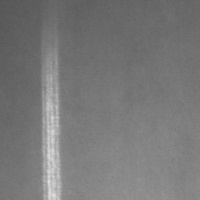scratches: (39, 37, 65, 199)
